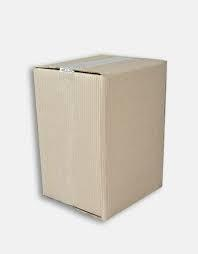Cardboard: (24, 38, 184, 229)
